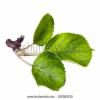Apple leaf: (44, 28, 95, 71), (29, 51, 69, 93), (33, 11, 58, 45)
